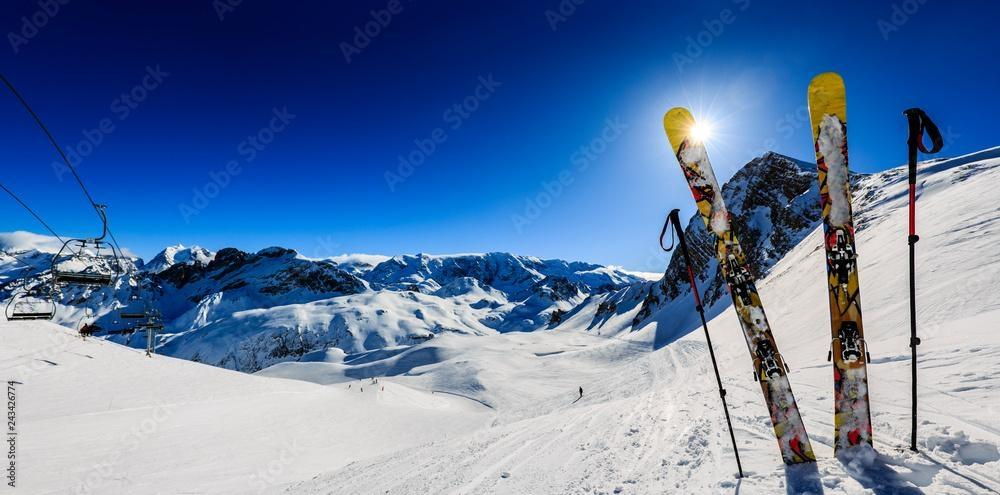Skis: (652, 66, 955, 490)
